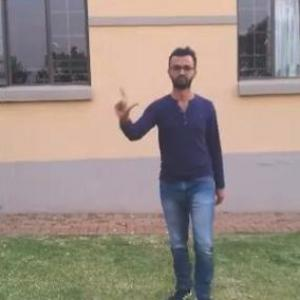land_hand: (108, 88, 142, 119)
